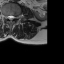CCS_normal: (10, 13, 12, 24)
LFS_stenosis: (15, 14, 17, 20)
LLS_normal: (12, 13, 15, 21)
RFS_normal: (5, 14, 7, 21)
RLS_normal: (7, 13, 10, 21)
